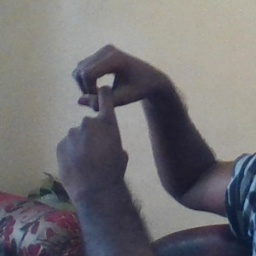Q: (52, 42, 150, 168)
